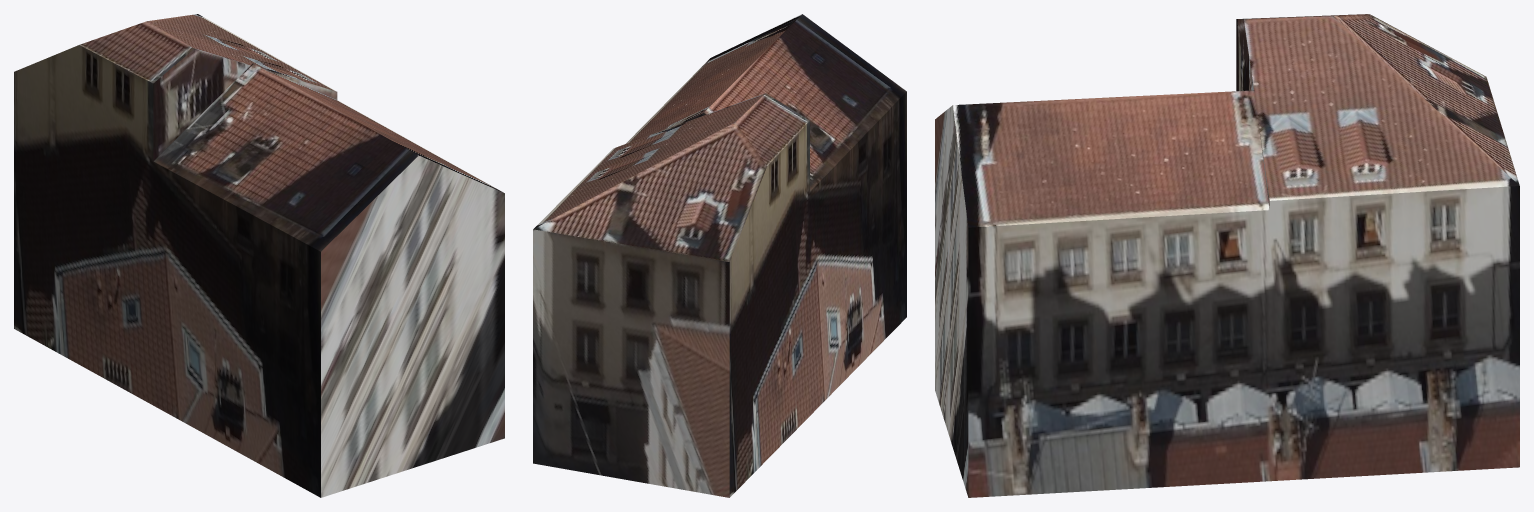
3 views of the same model, side by side, from view 1: azimuth 30°, elevation 25°; view 2: azimuth 150°, elevation 25°; view 3: azimuth 270°, elevation 25° (orthographic). The views are drawn at different scales.
Visible parts, largest first — view 1: Z_UP; view 2: Z_UP; view 3: Z_UP.
Boxes of the visible parts, left/top/right/bottom form: Z_UP: left=14, top=14, right=504, bottom=497; Z_UP: left=533, top=14, right=906, bottom=497; Z_UP: left=935, top=14, right=1519, bottom=497.
Size of the model in its own units: 12.94 by 16.6 by 23.22.
2 materials, 1 textured.
